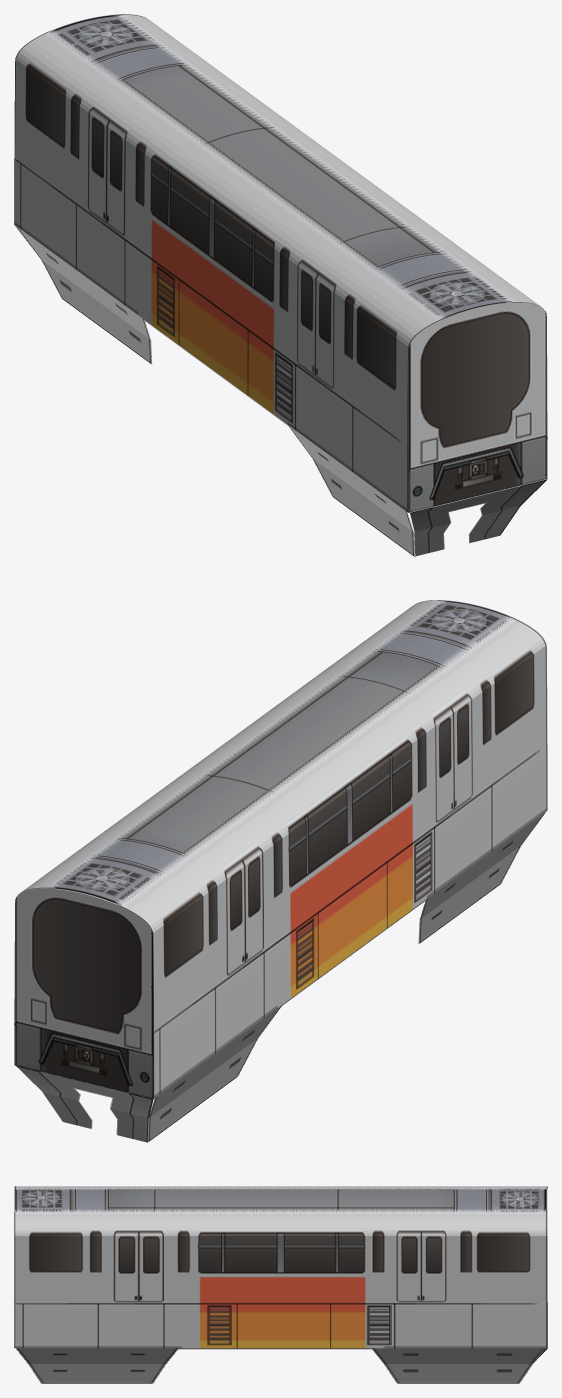
Rendered from car3.glb.
3 renders of one model, top to bottom at view 1: azimuth 30°, elevation 25°; view 2: azimuth 150°, elevation 25°; view 3: azimuth 270°, elevation 25°, orthographic. The views are drawn at different scales.
Parts seen in each view (by area): view 1: tamamono1000-car3; view 2: tamamono1000-car3; view 3: tamamono1000-car3.
Boxes of the visible parts, x1,y1,x2,y2 form: tamamono1000-car3: [14, 14, 547, 557]; tamamono1000-car3: [14, 600, 547, 1142]; tamamono1000-car3: [14, 1186, 547, 1383].
Bounding box in the file's own units: 2.98 × 5.18 × 14.63.
8 materials, 7 textured.
